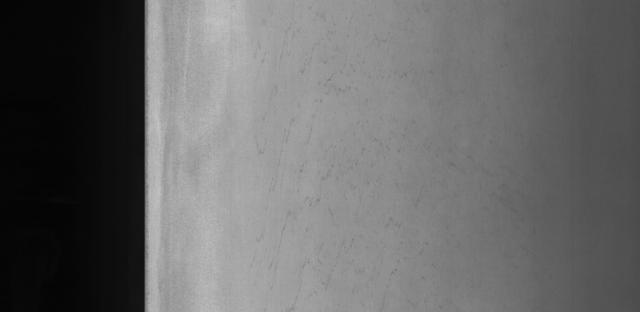silk_spot: (254, 16, 408, 287)
